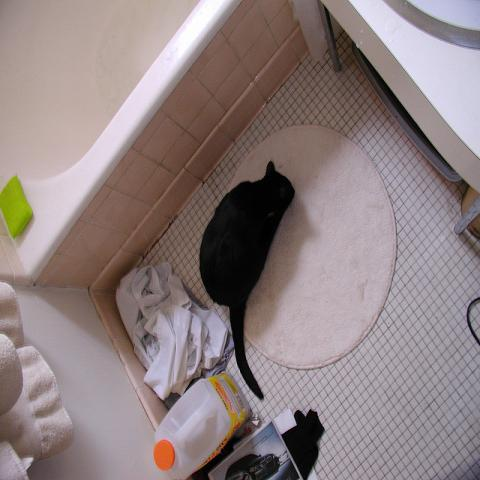car: (225, 452, 282, 479)
